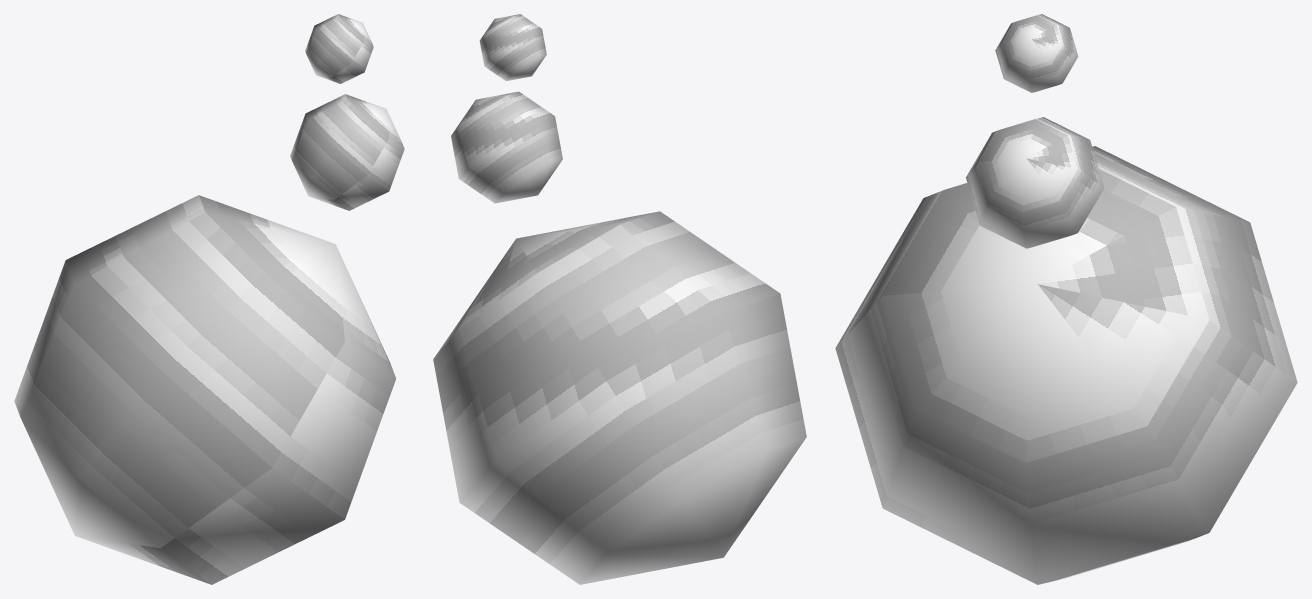
Rendered from magicorb.fbx.
3 views of the same model, side by side, from view 1: azimuth 30°, elevation 25°; view 2: azimuth 150°, elevation 25°; view 3: azimuth 270°, elevation 25° (orthographic). The views are drawn at different scales.
Visible parts, largest first — view 1: COLOR1; view 2: COLOR1; view 3: COLOR1.
Boxes of the visible parts, x1,y1,x2,y2 form: COLOR1: (14,14,404,584); COLOR1: (433,14,806,584); COLOR1: (835,14,1297,584).
Bounding box in the file's own units: 68.5 × 100 × 66.18.
Materials: 1 (1 with a texture image).
